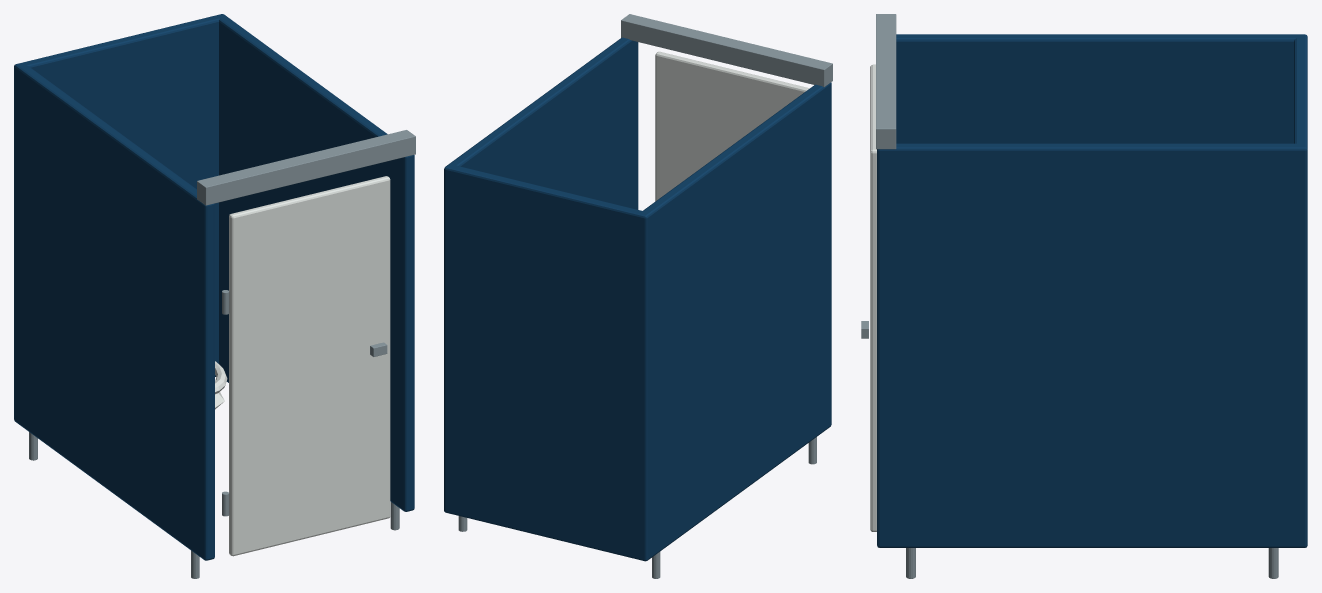
3 views of the same model, side by side, from view 1: azimuth 30°, elevation 25°; view 2: azimuth 150°, elevation 25°; view 3: azimuth 270°, elevation 25° (orthographic). The views are drawn at different scales.
Parts seen in each view (by area): view 1: WALL_Side, DOOR_Panel, WALL_Side.001, WALL_Back, FRAME_Header; view 2: WALL_Side, WALL_Back, WALL_Side.001, DOOR_Panel, FRAME_Header; view 3: WALL_Side.001, WALL_Side, DOOR_Panel, FRAME_Header, WALL_Back.
Boxes of the visible parts, x1,y1,x2,y2 form: WALL_Side: [14, 63, 214, 560]; DOOR_Panel: [229, 176, 390, 556]; WALL_Side.001: [217, 14, 414, 511]; WALL_Back: [22, 15, 220, 376]; FRAME_Header: [197, 130, 415, 205]; WALL_Side: [638, 82, 831, 561]; WALL_Back: [450, 165, 643, 559]; WALL_Side.001: [444, 37, 638, 513]; DOOR_Panel: [655, 51, 809, 201]; FRAME_Header: [621, 14, 832, 87]; WALL_Side.001: [877, 143, 1307, 547]; WALL_Side: [896, 34, 1307, 143]; DOOR_Panel: [870, 64, 876, 531]; FRAME_Header: [876, 14, 896, 149]; WALL_Back: [1294, 37, 1307, 145].
Size of the model in its own units: 1.2 by 2.21 by 1.97.
